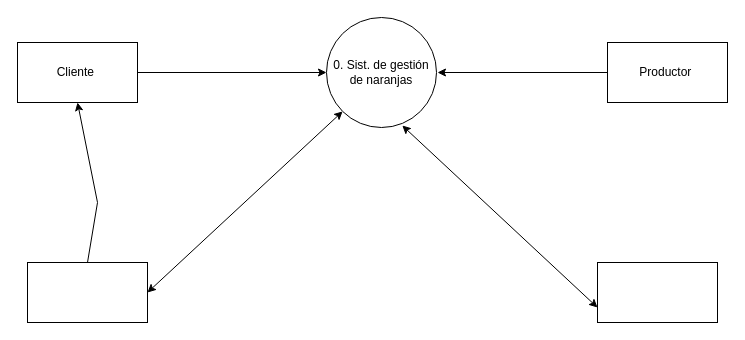
Some shapes in this 745 by 340 pixel diagram are drawn without their labels. Each missing label, with the centre of its shape:
Empresa de mensajería: the point at 657,292
Pasarela de pago: the point at 87,292
